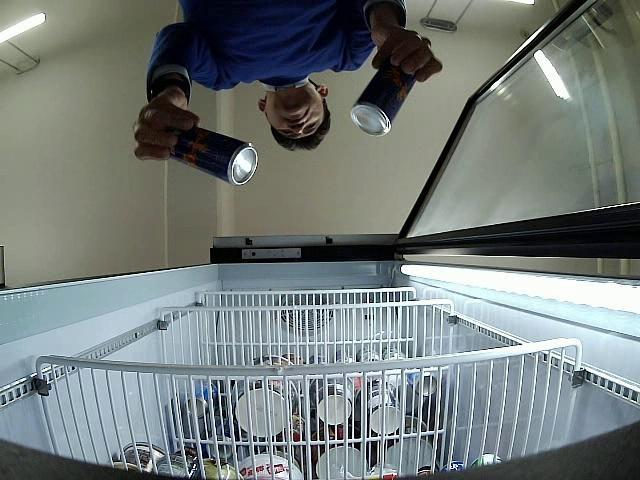16_hot6: (164, 125, 258, 186), (349, 57, 420, 136)
